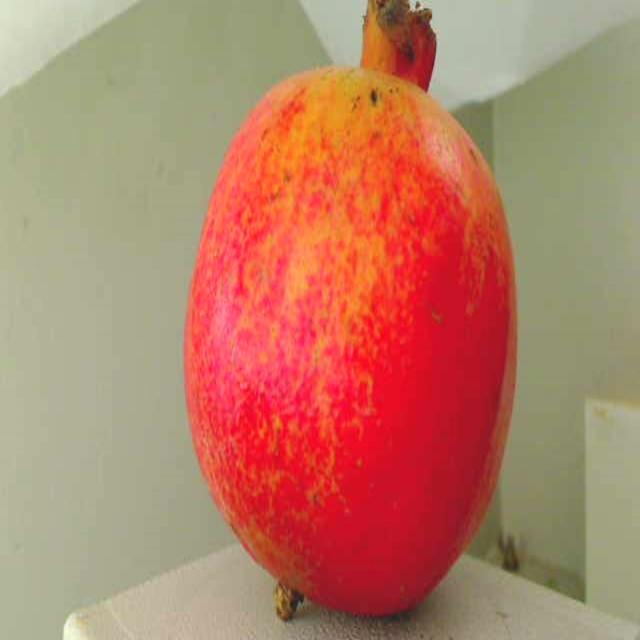pomegranate: (182, 0, 538, 640)
